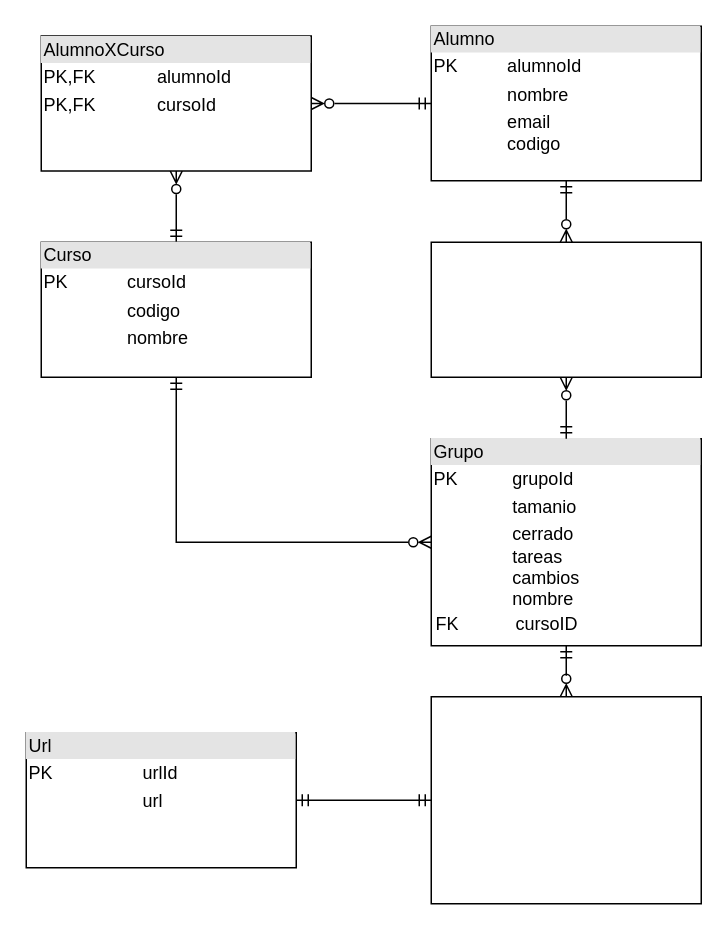
The diagram is 728 pixels wide and 930 high, and some of its shapes have lost their labels. The box of each missing label's shape, as (x1, y1, x2, y2) in pixels:
AlumnoXGrupo PK,FK alumnoId PK,FK grupoId: (430, 241, 701, 377)
Asignacion PK asignacionId FK grupoId titulo tipo FK urlId: (430, 695, 701, 904)
